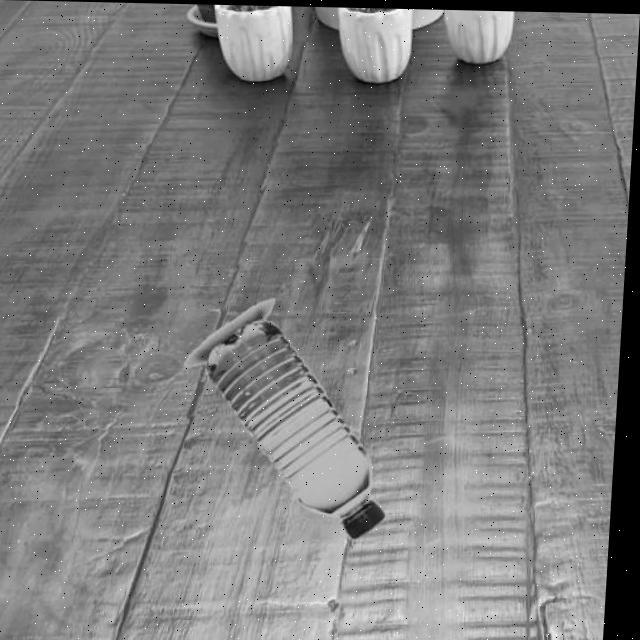bottle: (179, 294, 403, 538)
